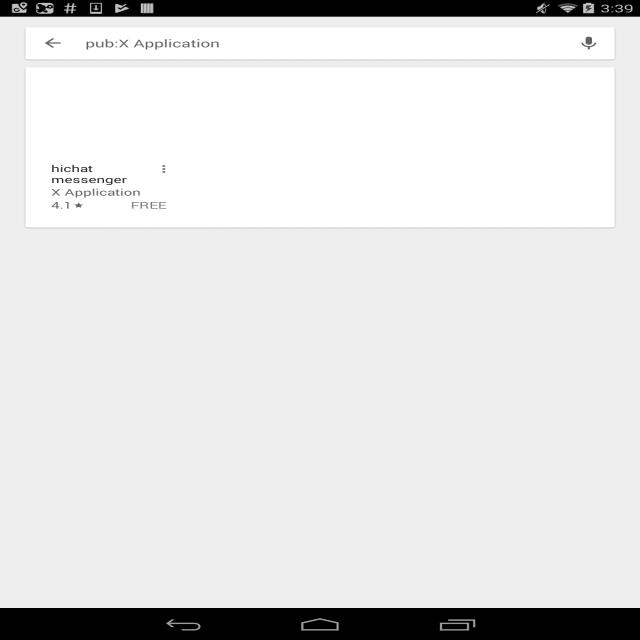ImageButton: (571, 34, 608, 56), (41, 34, 67, 52)
TextView: (42, 157, 172, 214), (78, 36, 237, 54)
